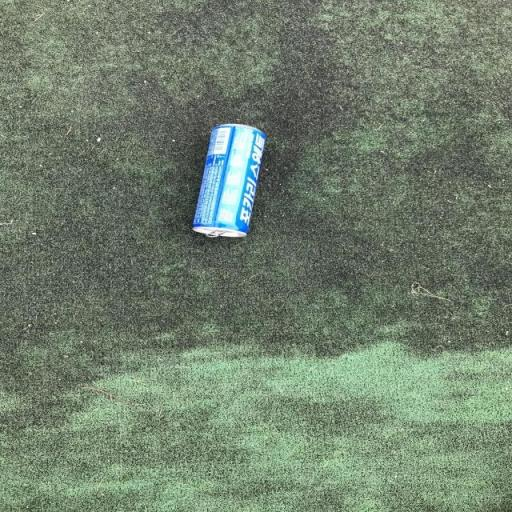metal: (168, 92, 286, 293)
